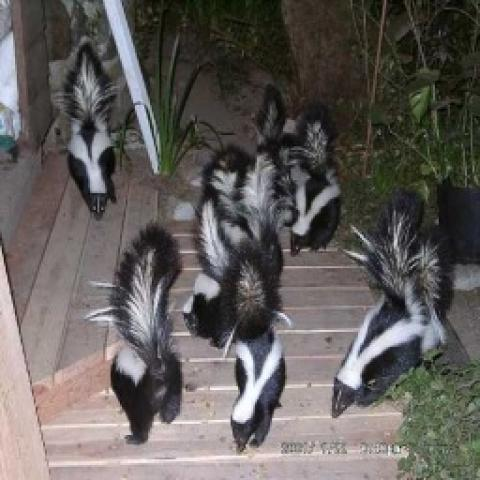small_animal: (329, 194, 445, 419), (88, 221, 184, 444), (181, 139, 273, 349), (222, 240, 287, 455), (54, 36, 118, 224), (286, 102, 341, 256)
